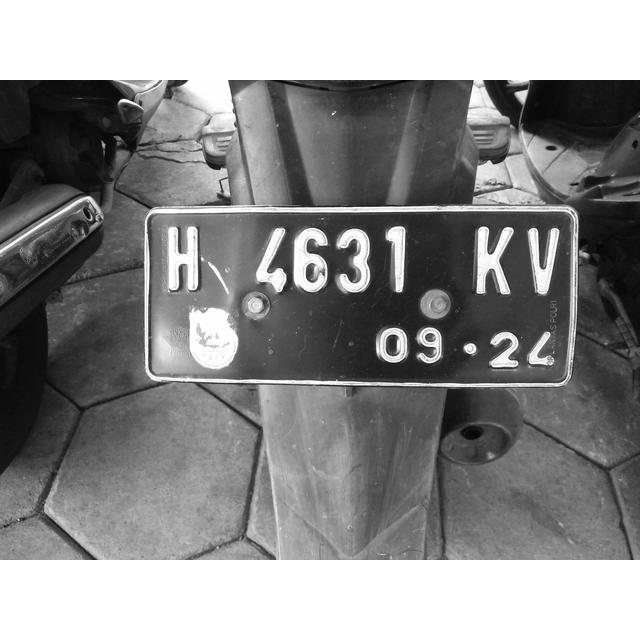license: (161, 215, 559, 375)
